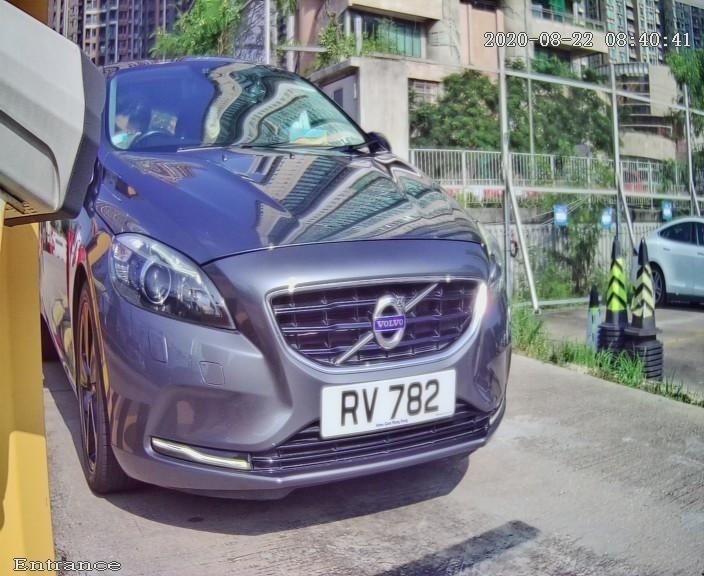Car: (13, 1, 557, 556)
License Plate: (293, 349, 490, 455)
